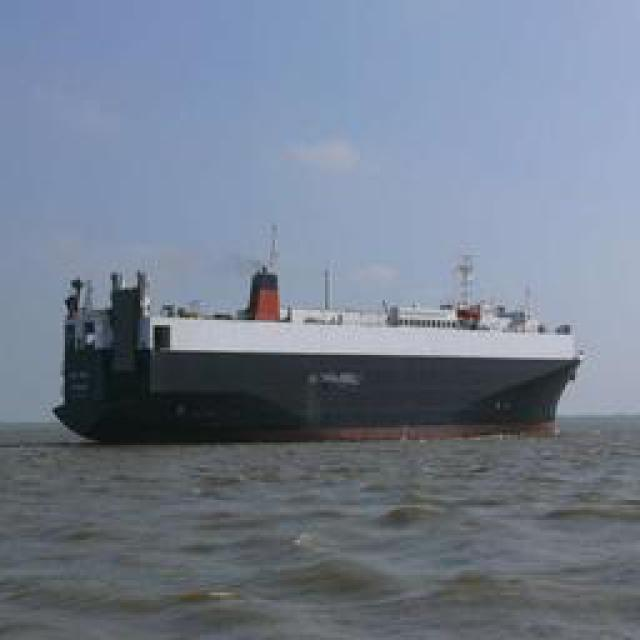Ship: (56, 243, 584, 438)
